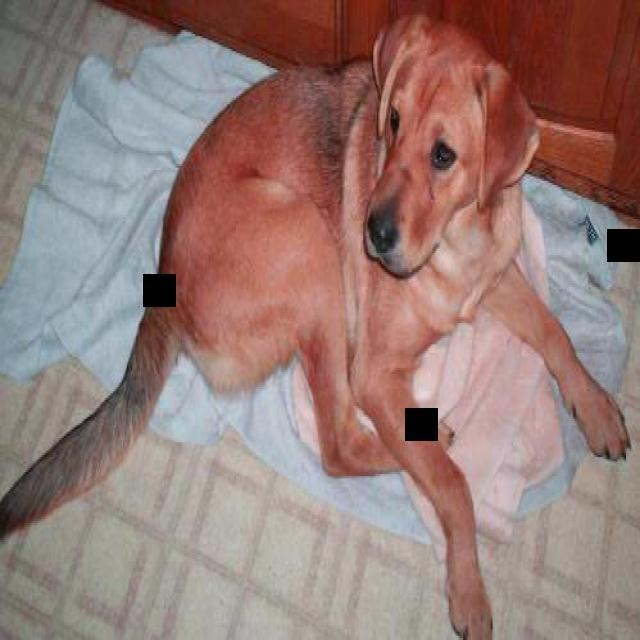adult_dog: (2, 17, 629, 640)
